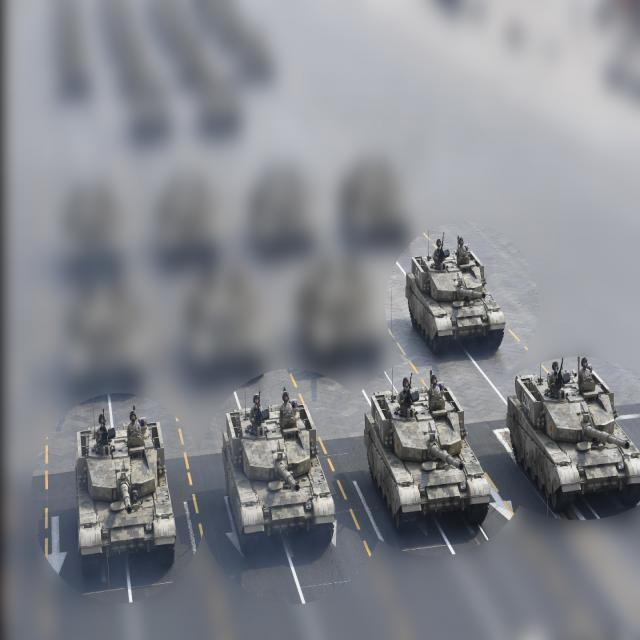tank: (506, 357, 640, 520), (364, 366, 491, 532), (222, 376, 335, 558), (72, 397, 186, 573), (405, 230, 507, 356)
